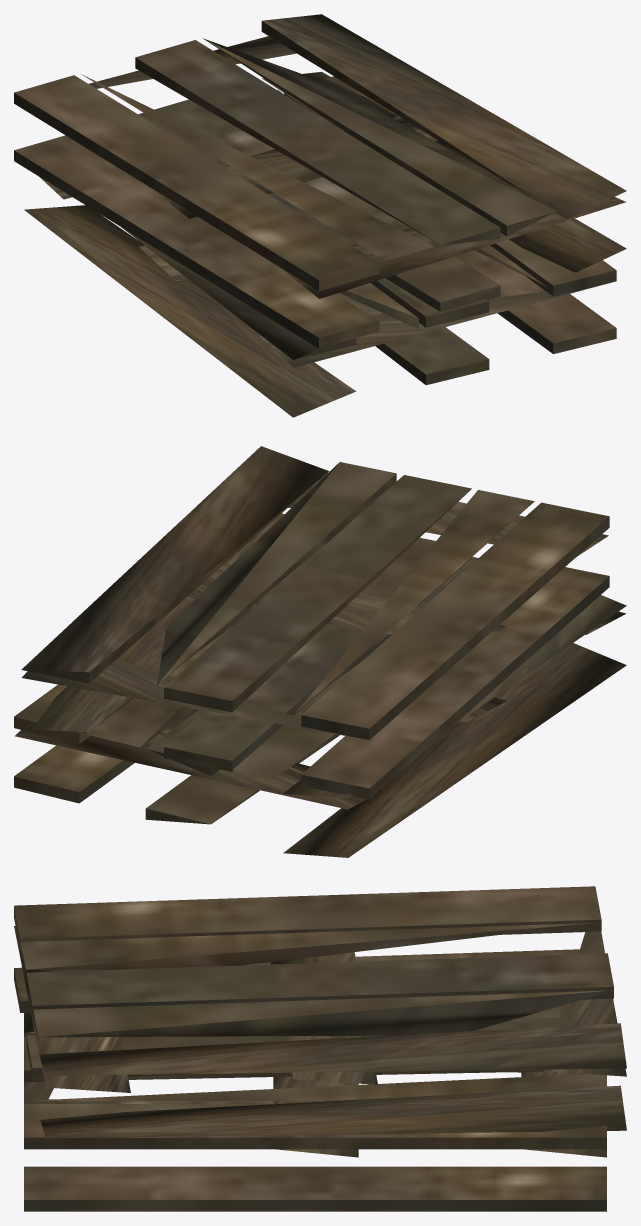
The picture shows the model from 3 angles, top to bottom: view 1: azimuth 30°, elevation 25°; view 2: azimuth 150°, elevation 25°; view 3: azimuth 270°, elevation 25°; orthographic projection. The views are drawn at different scales.
Visible parts, largest first — view 1: palet2; view 2: palet2; view 3: palet2.
Part boxes in pixels (box(x1,y1,x2,y2)): palet2: box(14, 14, 626, 417); palet2: box(14, 446, 626, 857); palet2: box(14, 886, 626, 1211).
Bounding box in the file's own units: 0.8778 × 0.3167 × 1.2.
Materials: 1 (1 with a texture image).
